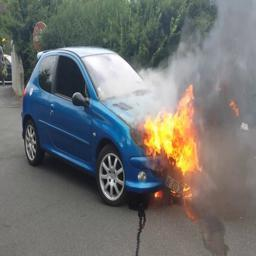fire: (143, 83, 203, 175)
